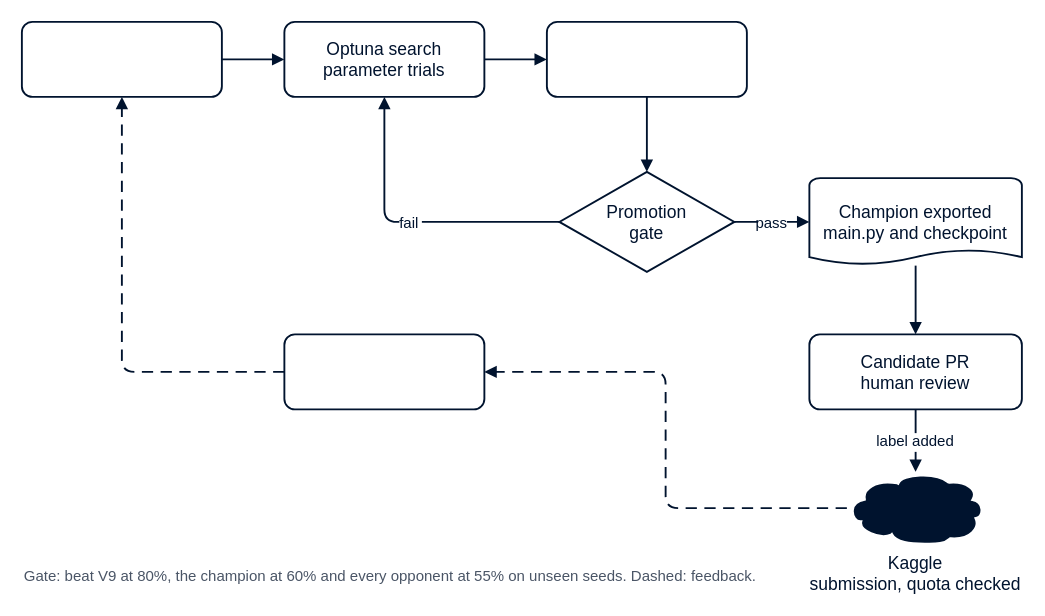
Image size: 1045x616. Some labels were removed from this diagram. The centre of each missing label's shape, as x and y in pixels:
Policy template phases, watering, harvest: pixel 121 58
Replays and leaderboard back into analysis: pixel 384 371
Self-play league fresh seeds, both seats: pixel 646 58
